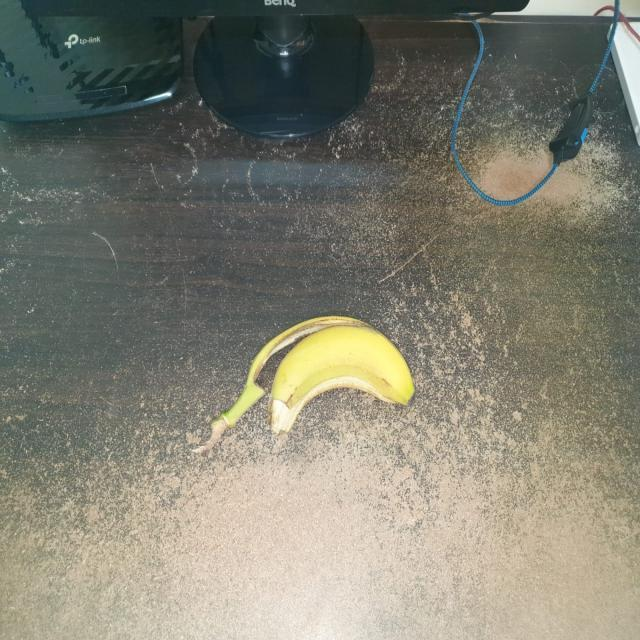banana-peel: (191, 313, 415, 457)
